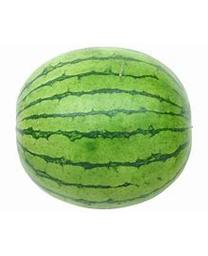watermelon: (15, 46, 192, 207)
